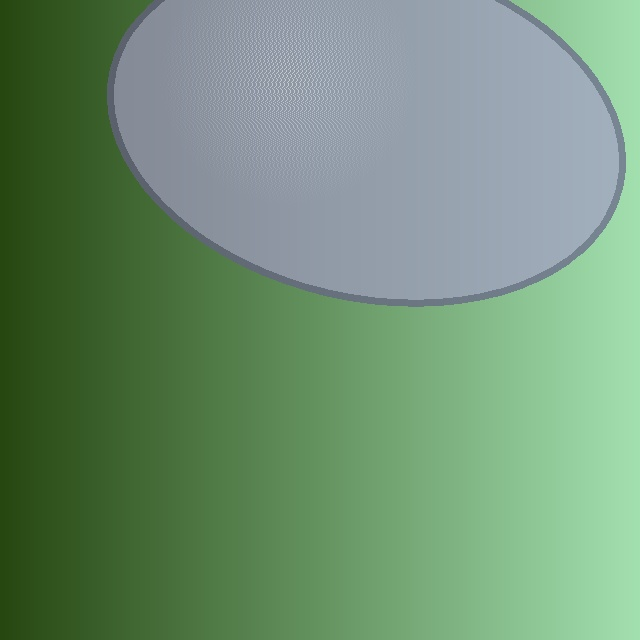lens: (111, 0, 621, 302)
